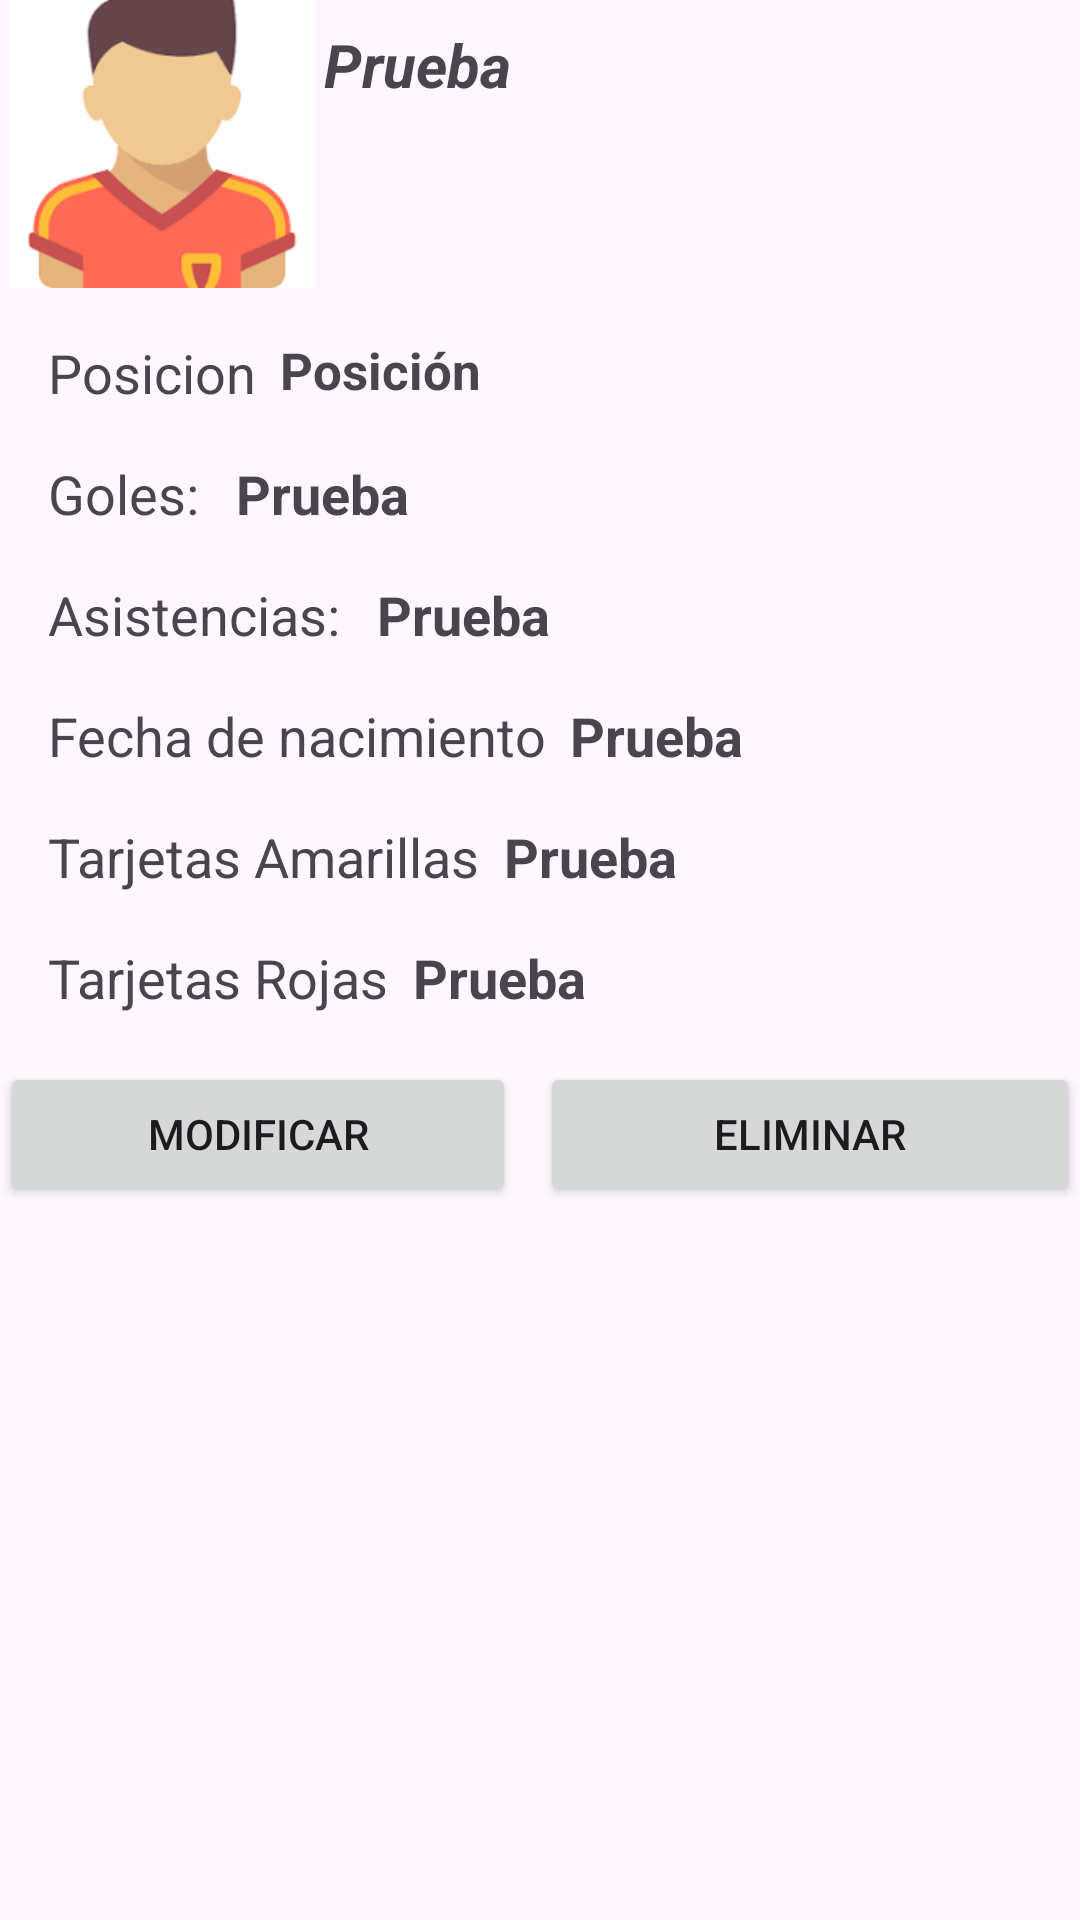

Named icons in this screenshot (1080px x 1920px) and their bounding boxes, {"x1": x1, "y1": y1, "x2": x2, "y2": y2}:
jugador: {"x1": 28, "y1": 0, "x2": 296, "y2": 288}
